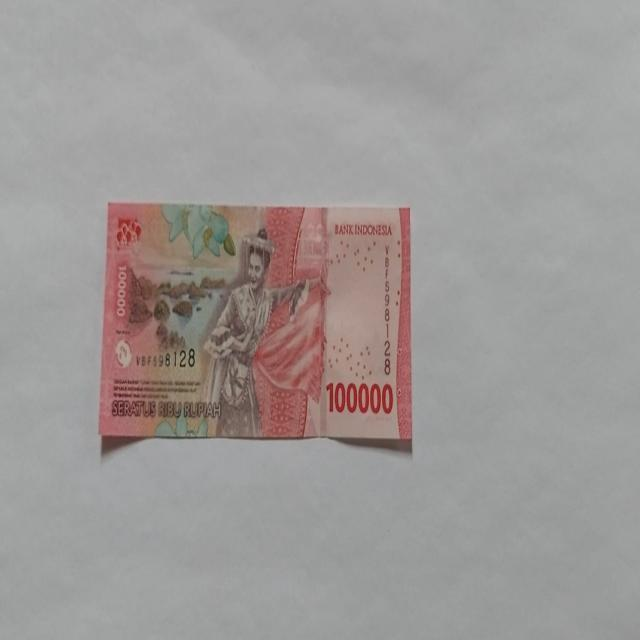seratus ribu rupiah: (98, 202, 412, 442), (199, 227, 313, 437)
